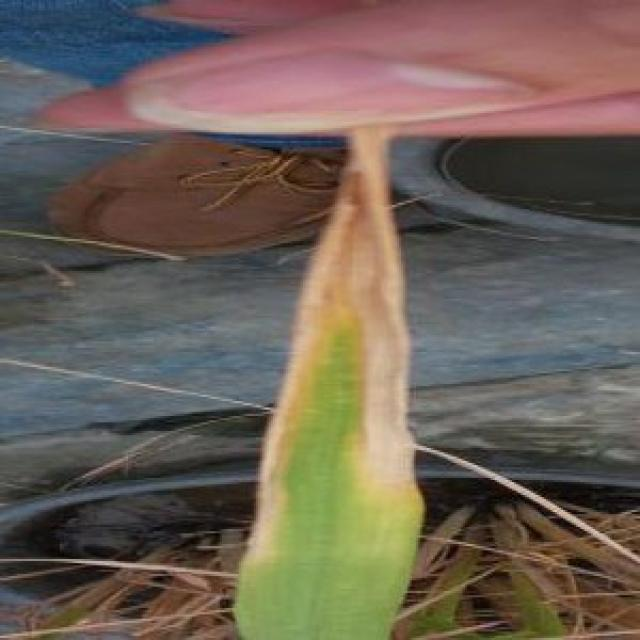Bacterial_Blight: (231, 133, 430, 586)
